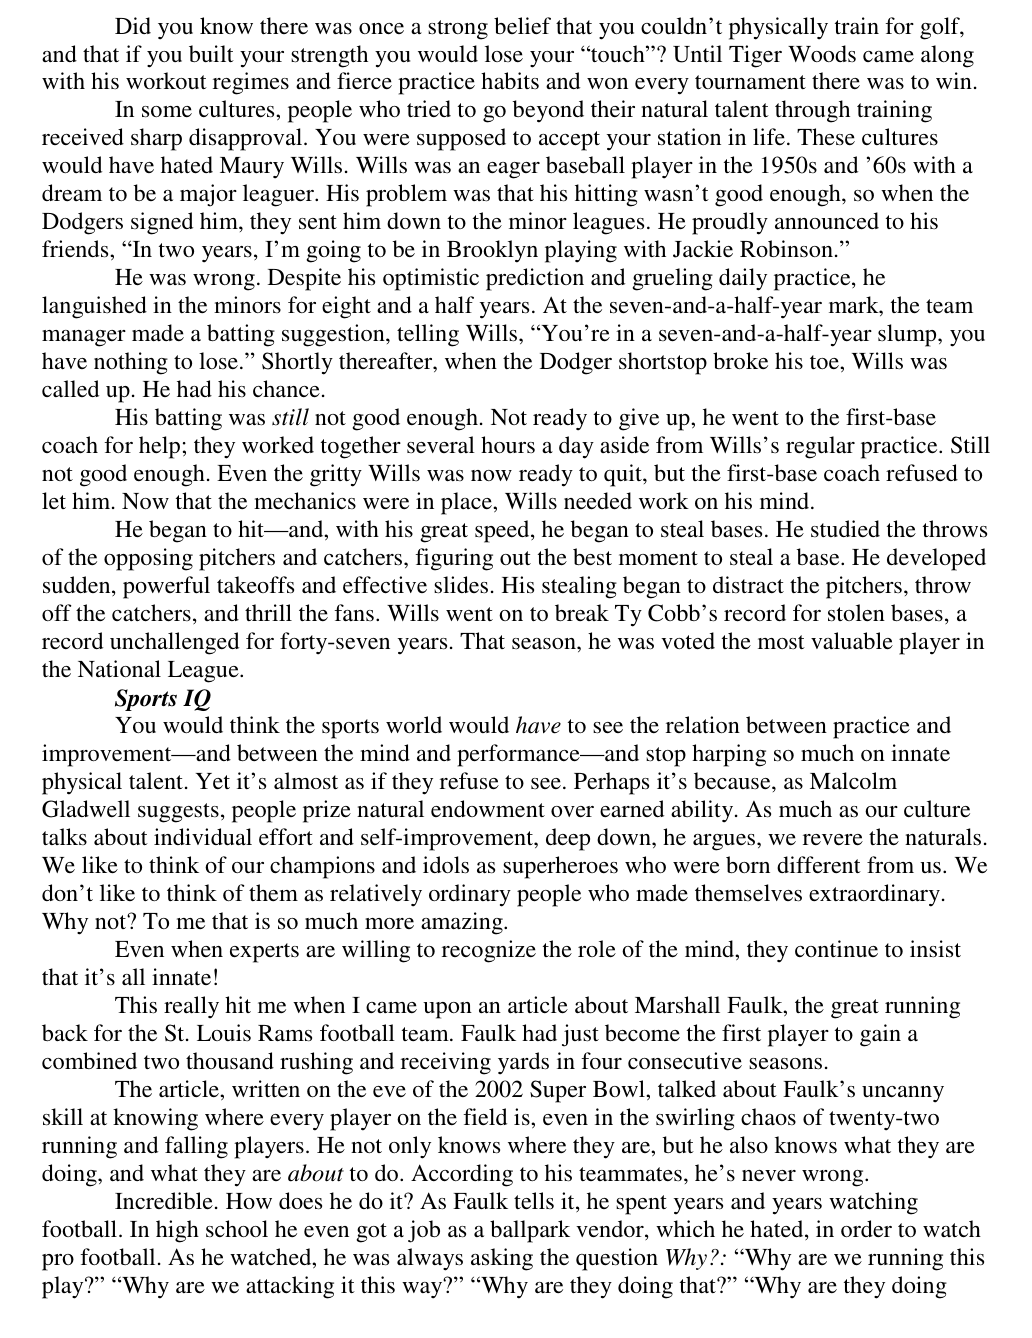latin: (40, 932, 986, 1316), (38, 15, 982, 263), (36, 716, 993, 932), (35, 510, 999, 684), (33, 263, 992, 398), (28, 398, 992, 510), (109, 684, 212, 716)
